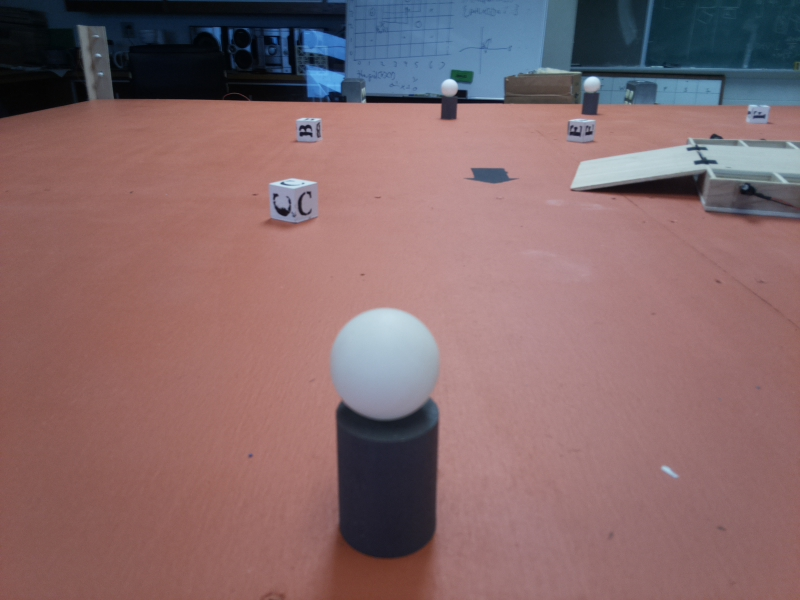blockB: (297, 116, 322, 143)
blockC: (263, 172, 323, 225)
blockE: (566, 117, 595, 142)
blockF: (743, 103, 774, 125)
corner: (82, 23, 108, 107)
obstacle: (332, 308, 443, 557), (436, 80, 462, 121), (580, 77, 603, 113)
side: (706, 175, 800, 218)
slope: (573, 142, 702, 202)
start: (464, 162, 518, 187)
